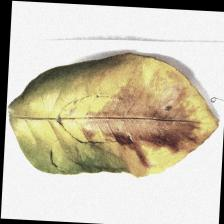black spot: (55, 80, 199, 166)
